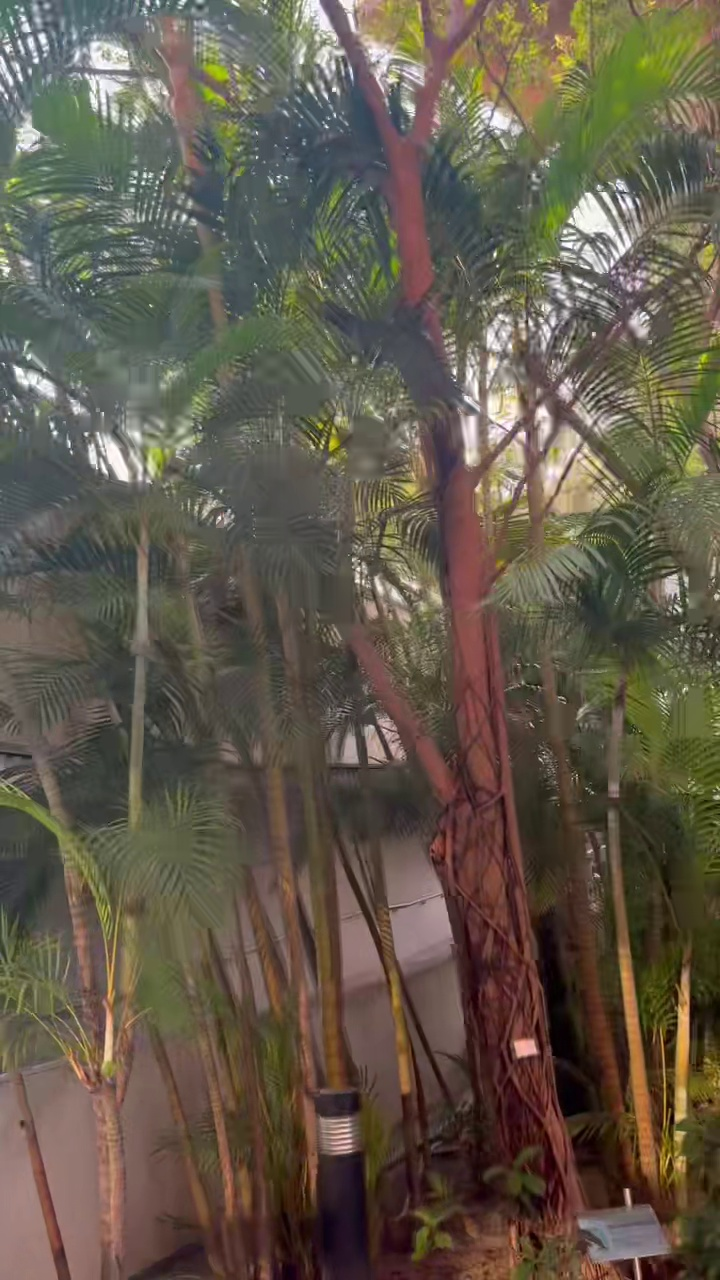Ficus benjamina: (320, 0, 581, 1219)
